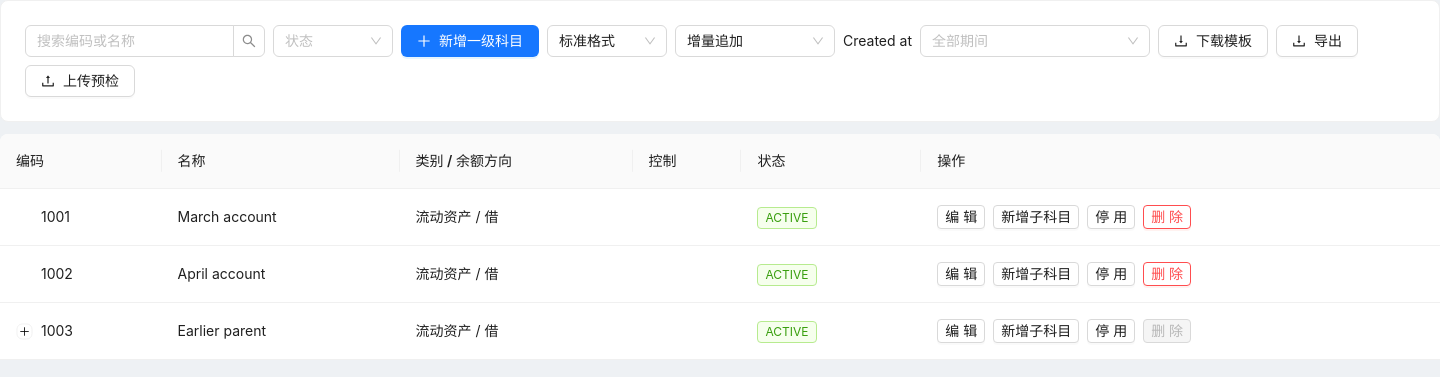
it: AccountsTab account form › filters already loaded accounts by created at without another request
Press the mouse on the dropdown named "Created at": point(960, 40) 932,32 -> 988,49
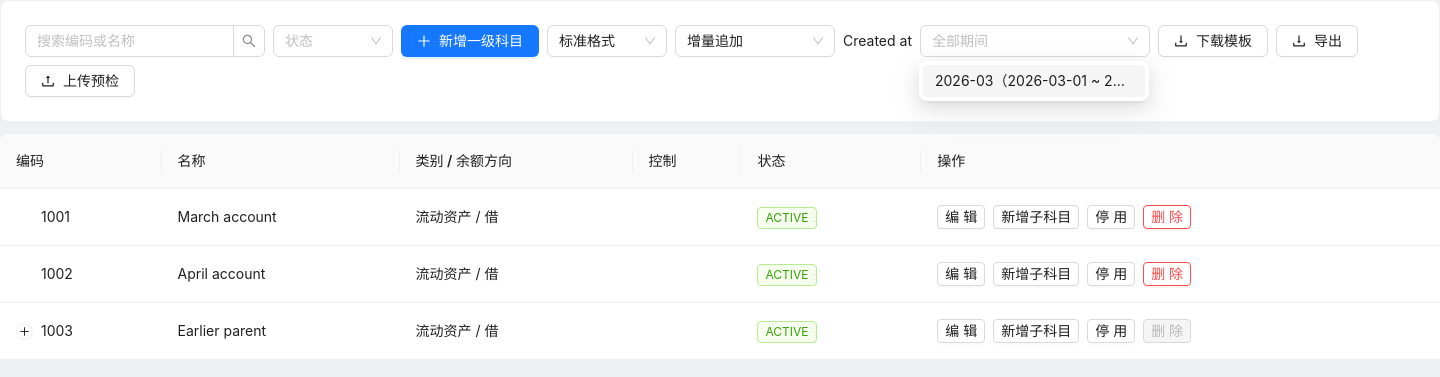
Click the text "2026-03（2026-03-01 ~ 2026-03-31）": point(1034, 81) 935,70 -> 1133,92
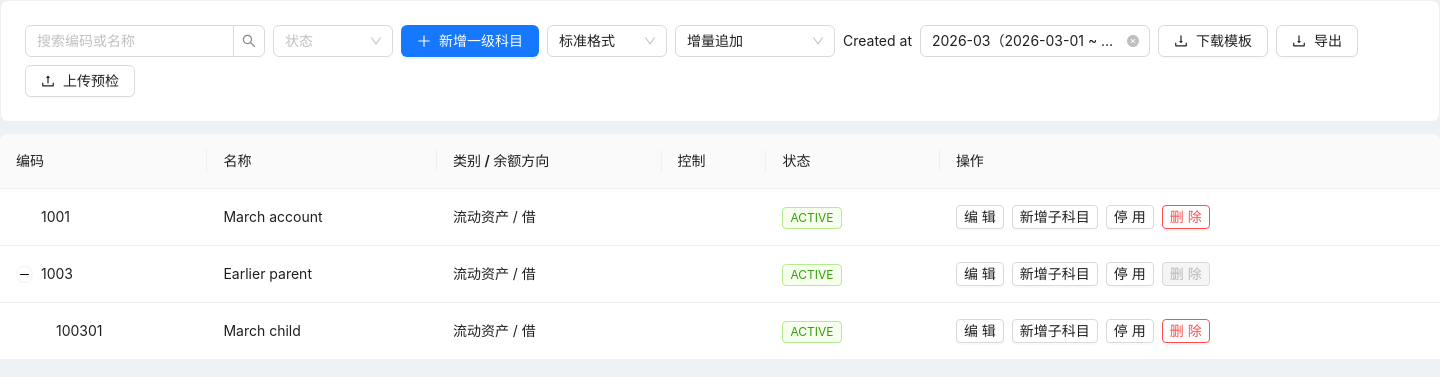
Expected: the text "March account" is shown, 207,189 -> 437,246
Result: the text "March child" is shown at 207,303 -> 437,360
Result: the text "April account" is gone
